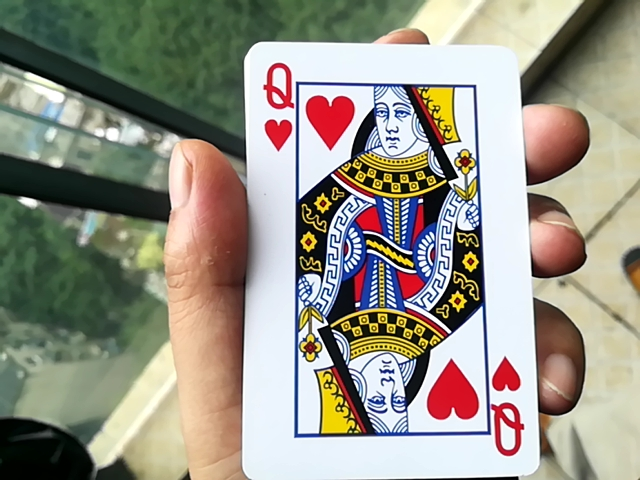hx q: (224, 42, 556, 479)
